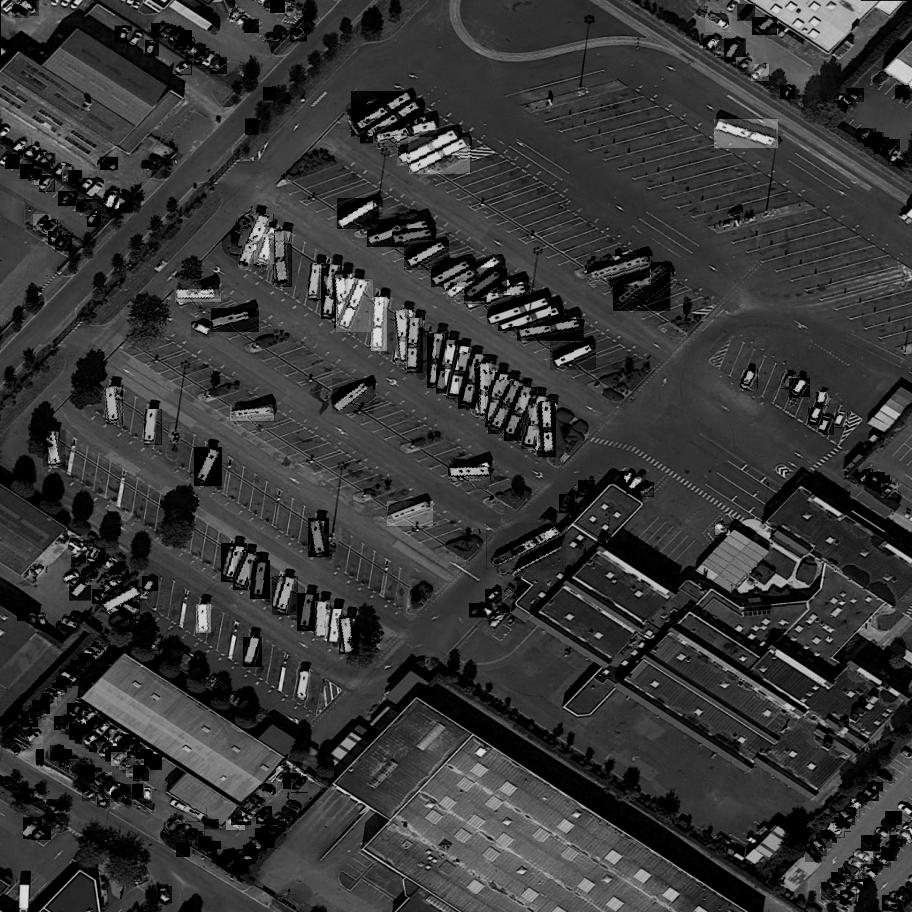large-vehicle: (487, 522, 567, 572), (351, 90, 415, 138), (613, 262, 672, 312), (361, 100, 424, 145), (398, 127, 462, 168), (447, 255, 503, 301), (409, 137, 471, 176), (489, 379, 529, 435), (487, 294, 552, 327), (336, 278, 373, 335), (239, 214, 275, 271), (588, 256, 654, 287), (714, 118, 778, 149), (367, 218, 433, 248), (457, 354, 490, 412), (505, 386, 538, 444), (498, 306, 564, 332), (521, 395, 551, 452), (447, 345, 476, 403), (332, 377, 374, 416), (374, 123, 439, 148), (404, 239, 450, 272), (518, 319, 584, 342), (485, 372, 512, 428), (465, 268, 507, 304), (337, 197, 381, 231), (437, 339, 462, 396), (431, 259, 476, 290), (551, 342, 596, 372), (387, 501, 434, 529), (464, 286, 530, 305), (101, 587, 142, 617), (427, 331, 448, 389), (233, 551, 263, 591), (321, 263, 342, 320), (195, 447, 224, 488), (212, 309, 259, 333), (255, 227, 282, 267), (221, 543, 247, 584), (538, 402, 557, 457), (395, 309, 413, 366), (272, 577, 298, 616), (274, 230, 292, 286), (334, 272, 352, 328), (43, 429, 67, 469), (407, 318, 423, 373), (392, 228, 436, 248), (298, 593, 320, 633), (371, 297, 387, 351), (309, 518, 330, 558), (479, 364, 494, 418), (251, 560, 271, 600), (339, 616, 359, 654), (107, 385, 125, 425), (231, 407, 275, 423), (327, 609, 345, 646), (309, 262, 326, 301), (144, 409, 162, 445), (175, 289, 221, 303), (244, 636, 264, 668), (315, 602, 330, 639), (449, 467, 490, 480), (296, 670, 311, 700), (197, 604, 212, 633)
small-vehicle: (705, 12, 731, 34), (725, 38, 746, 65), (69, 580, 92, 604), (107, 193, 133, 214), (752, 17, 778, 38), (789, 378, 811, 401), (626, 474, 647, 496), (740, 369, 759, 393), (111, 784, 132, 805), (86, 180, 106, 202), (23, 818, 42, 841), (751, 64, 771, 85), (87, 546, 106, 568), (192, 321, 215, 339), (58, 190, 78, 210), (59, 667, 80, 686), (255, 828, 274, 849), (175, 29, 193, 51), (737, 3, 755, 24), (217, 848, 235, 869), (110, 728, 127, 750), (185, 807, 207, 824), (33, 213, 52, 232), (41, 219, 60, 238), (46, 799, 65, 818), (105, 782, 124, 801), (883, 139, 902, 158), (12, 137, 32, 155), (115, 25, 133, 45), (82, 732, 102, 750), (821, 881, 839, 901), (168, 797, 188, 815), (32, 825, 52, 843), (56, 234, 73, 255), (60, 570, 81, 587), (559, 493, 575, 515), (101, 724, 119, 743), (123, 739, 141, 758), (90, 735, 108, 754), (862, 834, 880, 853), (118, 614, 136, 633), (166, 819, 185, 837), (277, 765, 295, 784), (143, 754, 163, 771), (76, 726, 93, 746), (203, 51, 220, 71), (187, 44, 207, 61), (883, 895, 903, 912), (70, 759, 90, 776), (24, 144, 42, 162), (810, 839, 828, 857), (881, 482, 899, 500), (105, 746, 123, 764), (133, 765, 151, 783), (249, 795, 267, 813), (470, 603, 488, 621), (80, 711, 99, 728), (87, 716, 106, 733), (117, 734, 134, 753), (25, 729, 44, 746), (128, 30, 145, 49), (835, 816, 852, 835), (877, 769, 896, 786), (736, 57, 755, 74), (838, 93, 857, 110), (256, 806, 273, 825), (243, 800, 262, 817), (283, 773, 302, 790), (291, 776, 308, 795), (142, 575, 158, 595), (93, 589, 113, 605), (98, 741, 114, 761), (865, 472, 885, 488), (109, 612, 129, 628), (808, 407, 824, 427), (819, 414, 834, 435), (715, 39, 730, 60), (105, 188, 119, 210), (210, 57, 227, 75), (53, 162, 70, 180), (97, 572, 115, 589), (136, 749, 154, 766), (67, 702, 84, 720), (29, 704, 46, 722), (874, 852, 892, 869), (620, 471, 638, 488), (578, 481, 595, 499), (839, 810, 856, 828), (112, 752, 129, 770), (127, 759, 144, 777), (238, 848, 256, 865), (249, 837, 266, 855), (704, 36, 722, 53), (290, 28, 308, 45), (66, 577, 85, 593), (107, 575, 123, 594), (194, 48, 210, 67), (151, 22, 170, 38), (854, 849, 873, 865), (865, 132, 884, 148), (889, 148, 905, 167), (94, 721, 111, 738), (62, 718, 79, 735), (22, 711, 39, 728), (863, 865, 880, 882), (233, 859, 250, 876), (486, 588, 503, 605), (75, 705, 91, 723), (15, 718, 33, 734), (33, 700, 51, 716), (169, 27, 185, 45), (820, 829, 838, 845), (827, 823, 845, 839), (858, 468, 874, 486), (636, 482, 654, 498), (95, 772, 113, 788), (244, 844, 262, 860), (70, 722, 85, 741), (62, 616, 81, 631), (226, 853, 241, 872), (846, 88, 865, 103), (782, 371, 797, 390), (39, 153, 56, 169), (79, 177, 95, 194), (85, 569, 102, 585), (130, 745, 146, 762), (83, 647, 100, 663), (78, 653, 95, 669), (161, 25, 178, 41), (805, 846, 821, 863), (846, 882, 863, 898), (843, 861, 860, 877), (109, 561, 126, 577), (885, 811, 902, 827), (13, 3, 30, 19), (198, 836, 214, 853), (119, 756, 136, 772), (874, 137, 890, 154), (40, 176, 55, 194), (87, 211, 102, 229), (100, 157, 118, 172), (174, 61, 192, 76), (872, 71, 890, 86), (828, 877, 843, 895), (840, 890, 858, 905), (159, 887, 174, 905), (858, 128, 876, 143), (20, 163, 34, 182), (65, 665, 84, 679), (71, 659, 90, 673), (146, 39, 160, 58), (848, 856, 867, 870), (889, 892, 908, 906), (59, 749, 72, 769), (41, 693, 57, 709), (816, 834, 832, 850), (65, 755, 81, 771), (86, 768, 102, 784), (239, 806, 255, 822), (895, 84, 910, 101), (235, 15, 252, 30), (103, 556, 118, 573), (95, 636, 112, 651), (56, 676, 73, 691), (181, 39, 196, 56), (5, 153, 20, 170), (781, 85, 796, 102), (176, 824, 193, 839), (877, 475, 891, 493), (177, 841, 191, 859), (835, 412, 849, 430), (50, 745, 64, 763), (121, 604, 140, 617), (268, 819, 287, 832), (851, 797, 866, 813), (82, 785, 97, 801), (715, 523, 731, 538), (656, 563, 671, 579), (79, 765, 95, 780), (231, 814, 251, 826), (48, 230, 62, 247), (230, 8, 244, 25), (33, 150, 47, 167), (245, 119, 259, 136), (838, 868, 856, 881), (102, 775, 115, 793), (227, 819, 245, 832), (259, 785, 277, 798), (261, 826, 280, 838), (245, 20, 260, 35), (55, 716, 70, 731), (46, 688, 62, 702), (831, 872, 847, 886), (864, 788, 880, 802), (881, 848, 897, 862), (29, 567, 45, 581), (81, 564, 97, 578), (77, 199, 93, 213), (84, 202, 98, 218), (207, 841, 221, 857), (185, 828, 198, 845), (851, 878, 869, 890), (891, 835, 905, 850), (270, 0, 285, 14), (192, 832, 206, 847), (35, 174, 51, 187), (71, 555, 87, 568), (264, 87, 277, 103), (97, 792, 109, 809), (151, 638, 165, 652), (28, 169, 43, 182), (897, 829, 912, 842), (62, 167, 74, 183), (70, 170, 82, 186), (90, 644, 106, 656), (844, 806, 860, 818), (876, 827, 890, 840), (278, 3, 292, 16), (868, 782, 883, 794), (20, 789, 35, 801), (110, 845, 128, 855), (53, 683, 68, 694), (159, 643, 170, 658), (37, 614, 48, 629), (818, 392, 829, 407), (204, 819, 219, 830), (133, 784, 144, 799), (265, 35, 283, 44), (118, 566, 129, 580), (18, 607, 28, 621), (288, 6, 298, 19), (29, 613, 37, 628), (36, 750, 44, 765), (144, 788, 152, 802)
